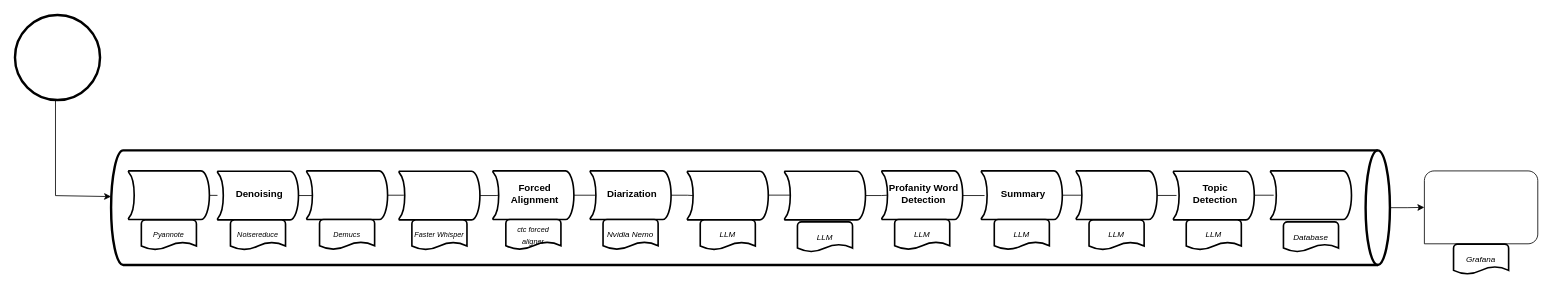
This 1552x289 diagram has some shape labels left out. Here are the shapes that lost their labels. From the top down, the centre of each, then its label:
point 57,57: Input (Audio File)
point 168,195: Dialogue Detection
point 346,195: Vocal Seperation
point 439,195: Transcription
point 727,195: Speaker Role Classification
point 824,195: Sentiment Analysis
point 1116,195: Conflict Detection
point 1310,195: Storage
point 1481,207: Monitoring & Alarms
